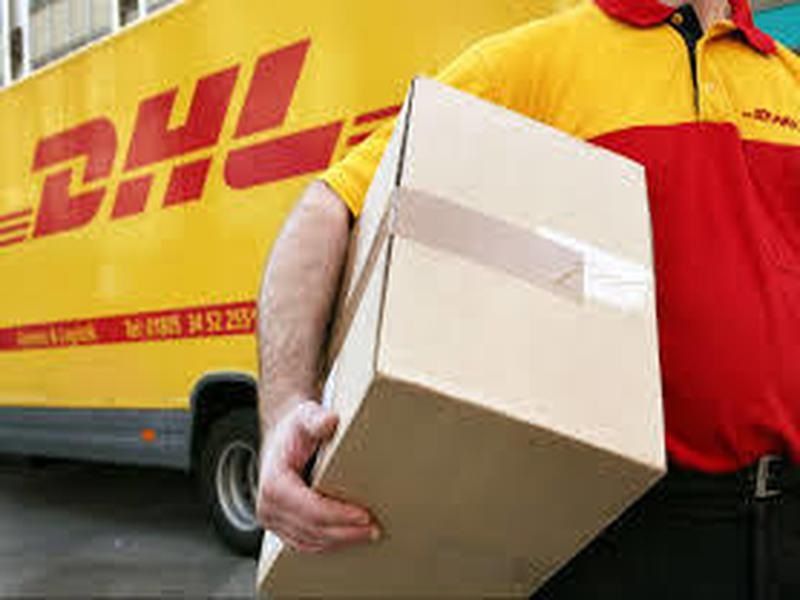package: (224, 63, 679, 584)
